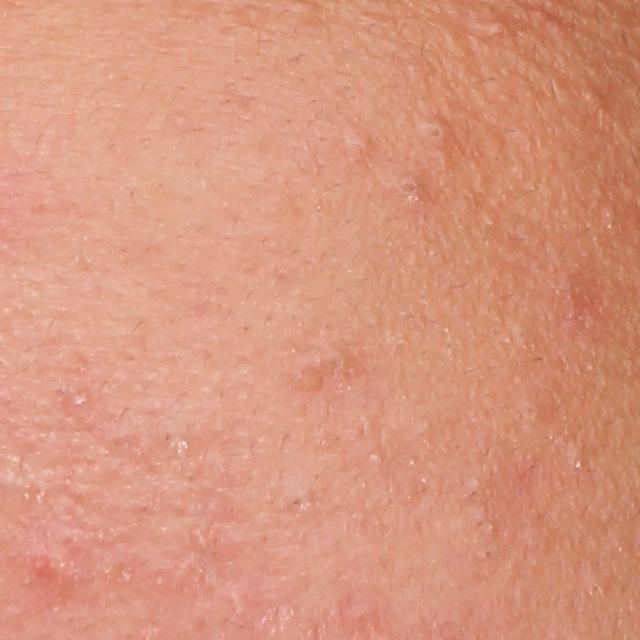comedo: (343, 125, 373, 165), (393, 171, 419, 202), (578, 82, 609, 107), (419, 120, 451, 144), (485, 19, 506, 35)
